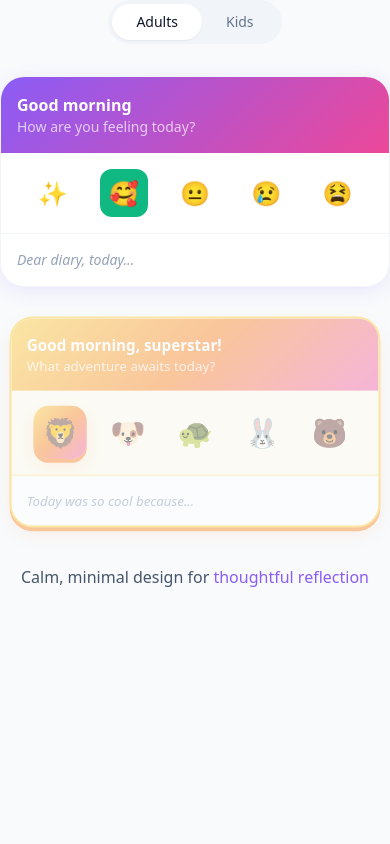
ModePreview › mode toggle › should switch back to adult mode when Adults button is clicked
Switch to kids first
Click the button "Kids".
click(240, 22)  # box [202, 4, 278, 40]
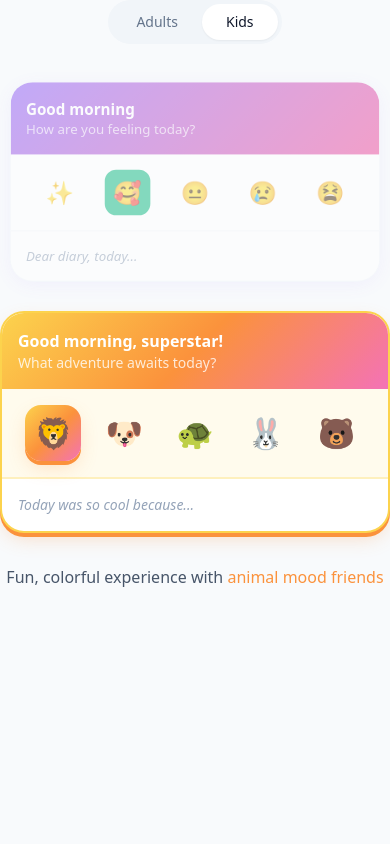
Expected: the text "animal mood friends" is shown, [227, 566, 384, 588]
Switch back to adults
Click the button "Adults".
click(157, 22)  # box [112, 4, 202, 40]
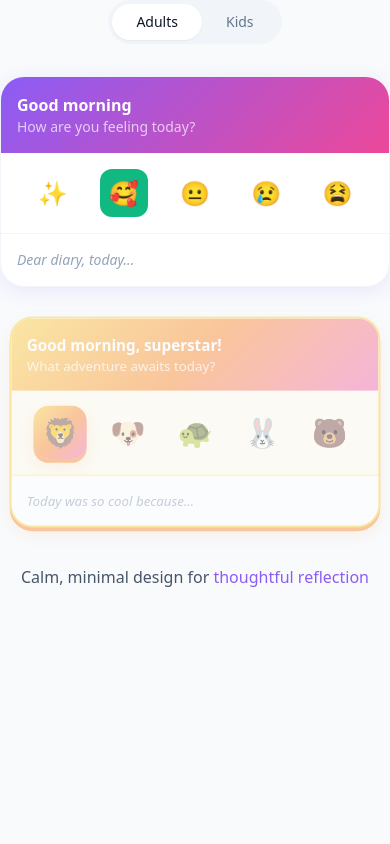
Expected: the text "thoughtful reflection" is shown, [214, 566, 369, 588]
